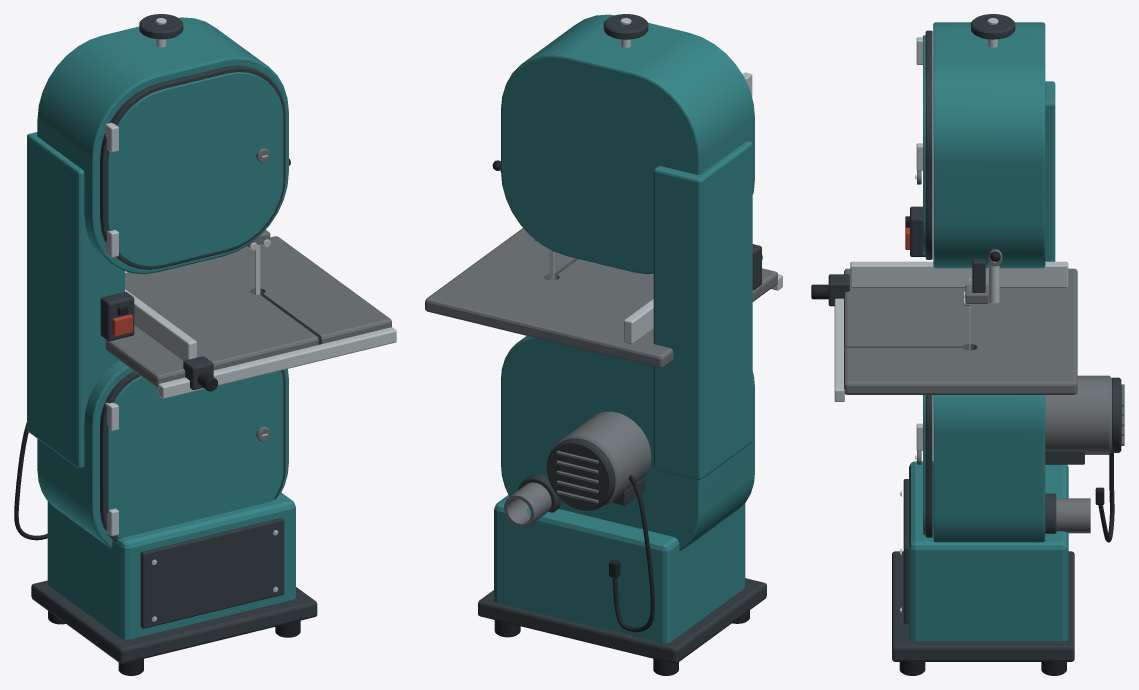
Rendered from city-vertical-band-saw.glb.
The picture shows the model from 3 angles, left to right: view 1: azimuth 30°, elevation 25°; view 2: azimuth 150°, elevation 25°; view 3: azimuth 270°, elevation 25°; orthographic projection.
Parts seen in each view (by area): view 1: Assembly | Petrol workshop enamel, Assembly | Graphite painted frame, Assembly | Grey cast iron, Assembly | Satin steel, Assembly | Black cable and rubber; view 2: Assembly | Petrol workshop enamel, Assembly | Grey cast iron, Assembly | Graphite painted frame, Assembly | Black cable and rubber, Assembly | Satin steel; view 3: Assembly | Petrol workshop enamel, Assembly | Grey cast iron, Assembly | Graphite painted frame, Assembly | Satin steel, Assembly | Black cable and rubber.
Boxes of the visible parts, <box> form: Assembly | Petrol workshop enamel: <box>27,17,295,639</box>; Assembly | Graphite painted frame: <box>31,14,317,663</box>; Assembly | Grey cast iron: <box>105,148,391,441</box>; Assembly | Satin steel: <box>105,18,396,621</box>; Assembly | Black cable and rubber: <box>14,158,300,675</box>; Assembly | Petrol workshop enamel: <box>494,14,754,643</box>; Assembly | Grey cast iron: <box>425,228,777,527</box>; Assembly | Graphite painted frame: <box>478,14,766,663</box>; Assembly | Black cable and rubber: <box>492,160,762,675</box>; Assembly | Satin steel: <box>499,18,782,344</box>; Assembly | Petrol workshop enamel: <box>909,22,1068,641</box>; Assembly | Grey cast iron: <box>844,170,1124,533</box>; Assembly | Graphite painted frame: <box>828,14,1121,661</box>; Assembly | Satin steel: <box>834,18,1068,613</box>; Assembly | Black cable and rubber: <box>811,216,1114,675</box>.
Size of the model in its own units: 0.784 by 1.73 by 0.805.
